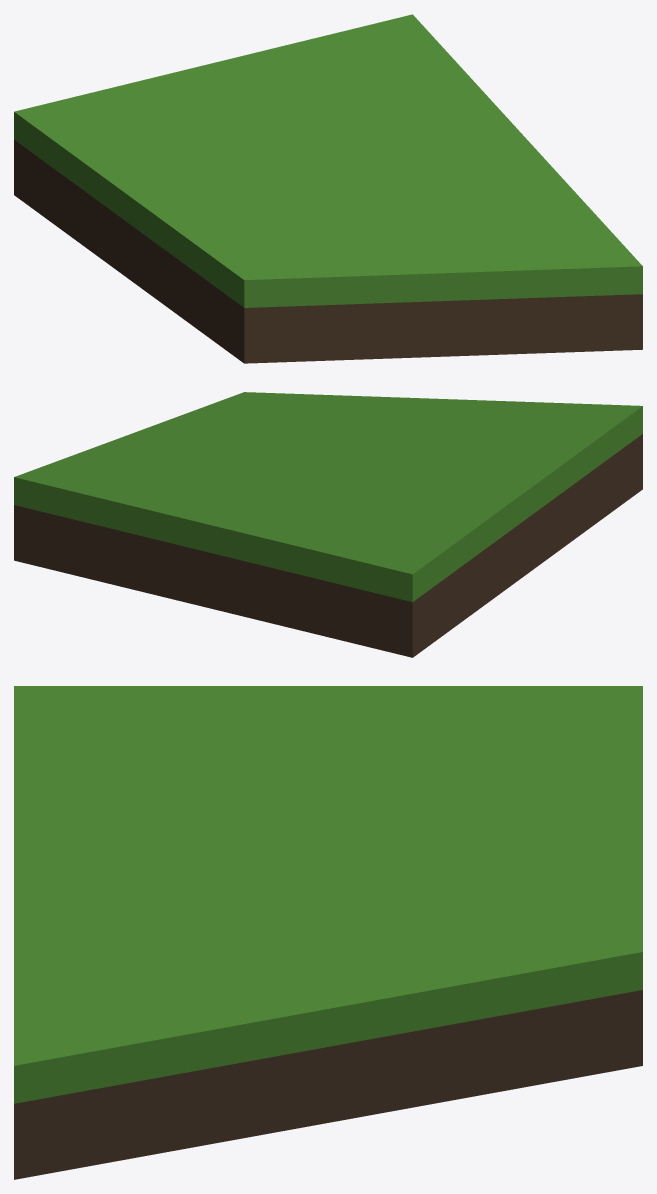
Rendered from tiles_tile-hill-valley.fbx.
3 views of the same model, one above another, from view 1: azimuth 30°, elevation 25°; view 2: azimuth 150°, elevation 25°; view 3: azimuth 270°, elevation 25° (orthographic). The views are drawn at different scales.
Visible parts, largest first — view 1: tiles_tile_hill_valley; view 2: tiles_tile_hill_valley; view 3: tiles_tile_hill_valley.
Boxes of the visible parts, x1,y1,x2,y2 form: tiles_tile_hill_valley: [14, 14, 642, 363]; tiles_tile_hill_valley: [14, 392, 642, 657]; tiles_tile_hill_valley: [14, 686, 642, 1179].
Bounding box in the file's own units: 200 × 80 × 200.
